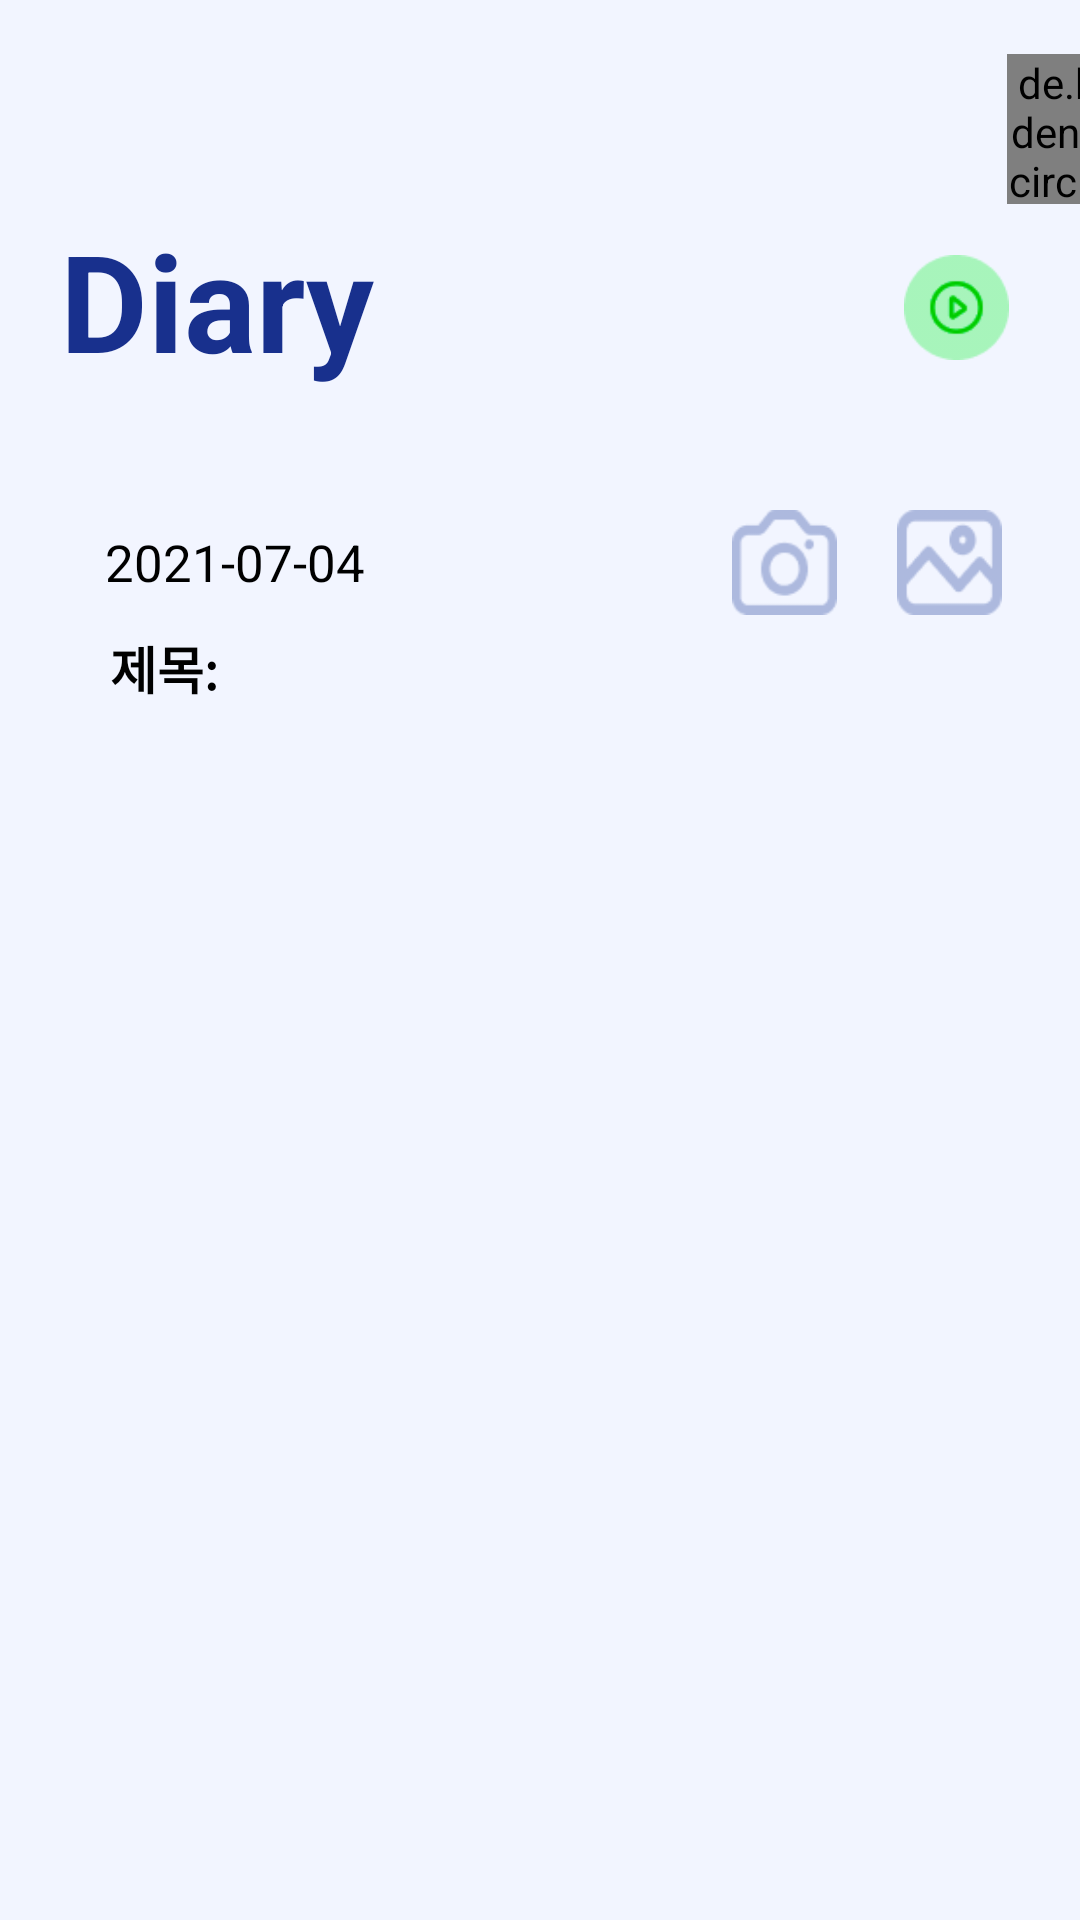

Locate icon controls on the screen. Image size 1080*1920, boxes as (x1=x1, y1=y1, x2=x2, y2=y2).
camera: (x1=732, y1=510, x2=837, y2=615)
gallery: (x1=897, y1=510, x2=1002, y2=615)
player on: (x1=904, y1=255, x2=1009, y2=360)
